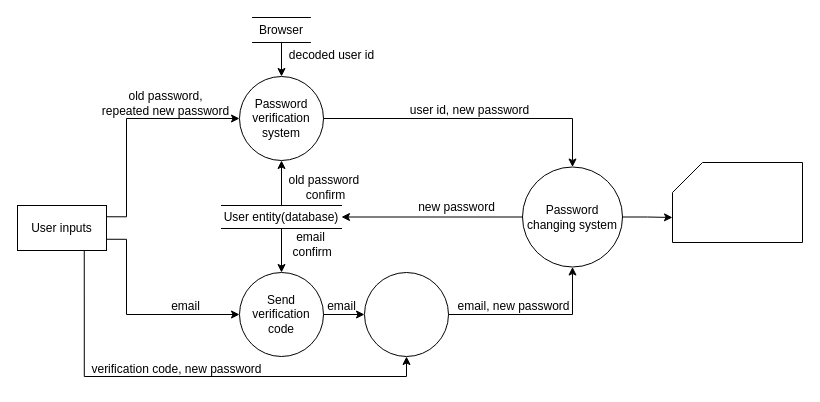
Some shapes in this 820 by 402 pixel diagram are drawn without their labels. The centre of each missing label's shape, as x and y in pixels:
"Code verification" belongs at pixel 406 314.
"Direct to previous page" belongs at pixel 737 202.
